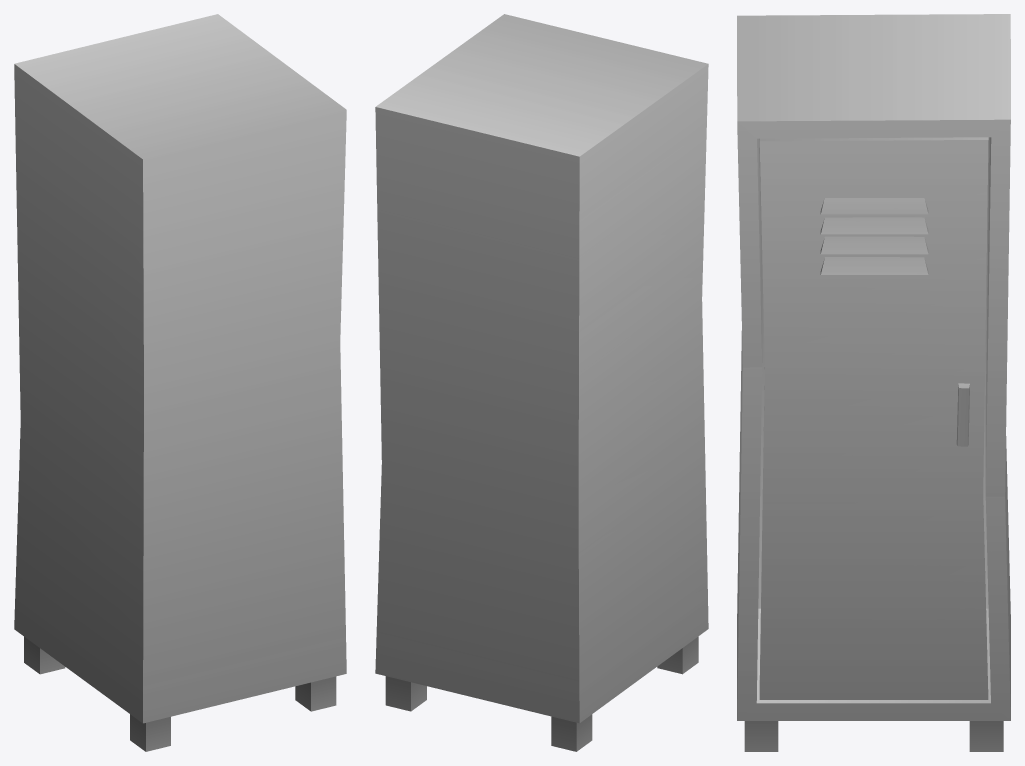
Rendered from DoubleCooked_Locker.fbx.
The picture shows the model from 3 angles, left to right: view 1: azimuth 30°, elevation 25°; view 2: azimuth 150°, elevation 25°; view 3: azimuth 270°, elevation 25°; orthographic projection. The views are drawn at different scales.
Visible parts, largest first — view 1: DoubleCooked_Locker; view 2: DoubleCooked_Locker; view 3: DoubleCooked_Locker_Door, DoubleCooked_Locker.
Part boxes in pixels (left/top/right/bottom): DoubleCooked_Locker: left=14, top=14, right=346, bottom=751; DoubleCooked_Locker: left=375, top=14, right=708, bottom=751; DoubleCooked_Locker_Door: left=759, top=137, right=988, bottom=699; DoubleCooked_Locker: left=737, top=14, right=1010, bottom=751.
Size of the model in its own units: 40.5 by 111 by 43.13.
Materials: 1 (1 with a texture image).
